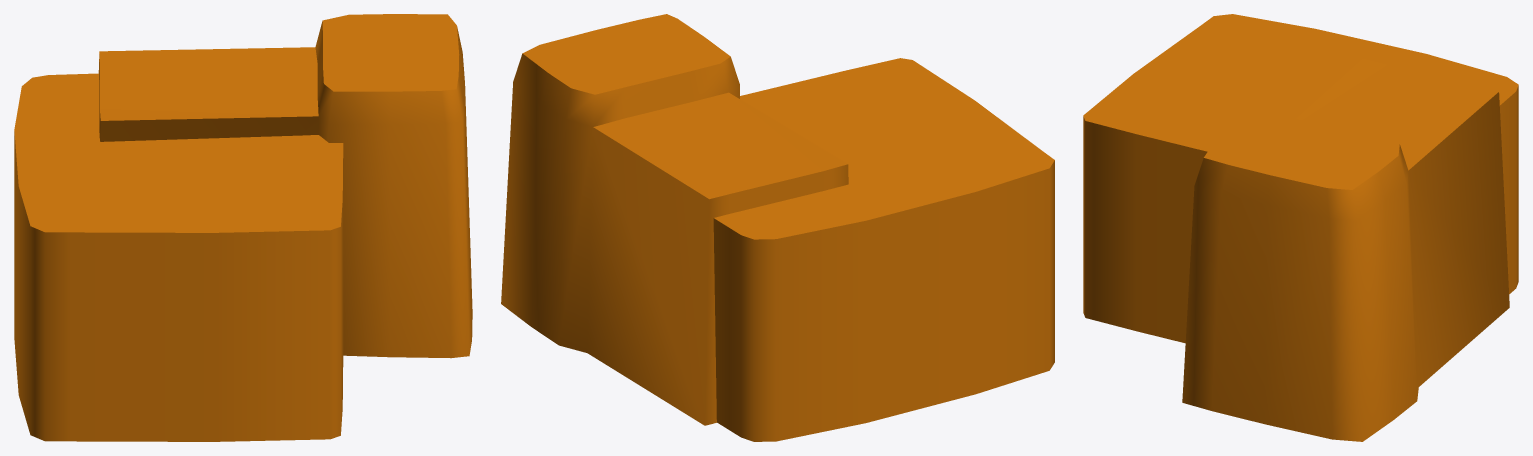
File: Islands_28.FBX
3 renders of one model, left to right at view 1: azimuth 30°, elevation 25°; view 2: azimuth 150°, elevation 25°; view 3: azimuth 270°, elevation 25°, orthographic. The views are drawn at different scales.
Visible parts, largest first — view 1: Islands_28; view 2: Islands_28; view 3: Islands_28.
Boxes of the visible parts, left/top/right/bottom form: Islands_28: left=14, top=14, right=472, bottom=441; Islands_28: left=501, top=14, right=1054, bottom=441; Islands_28: left=1083, top=14, right=1518, bottom=441.
Size of the model in its own units: 80.87 by 40.4 by 65.01.
